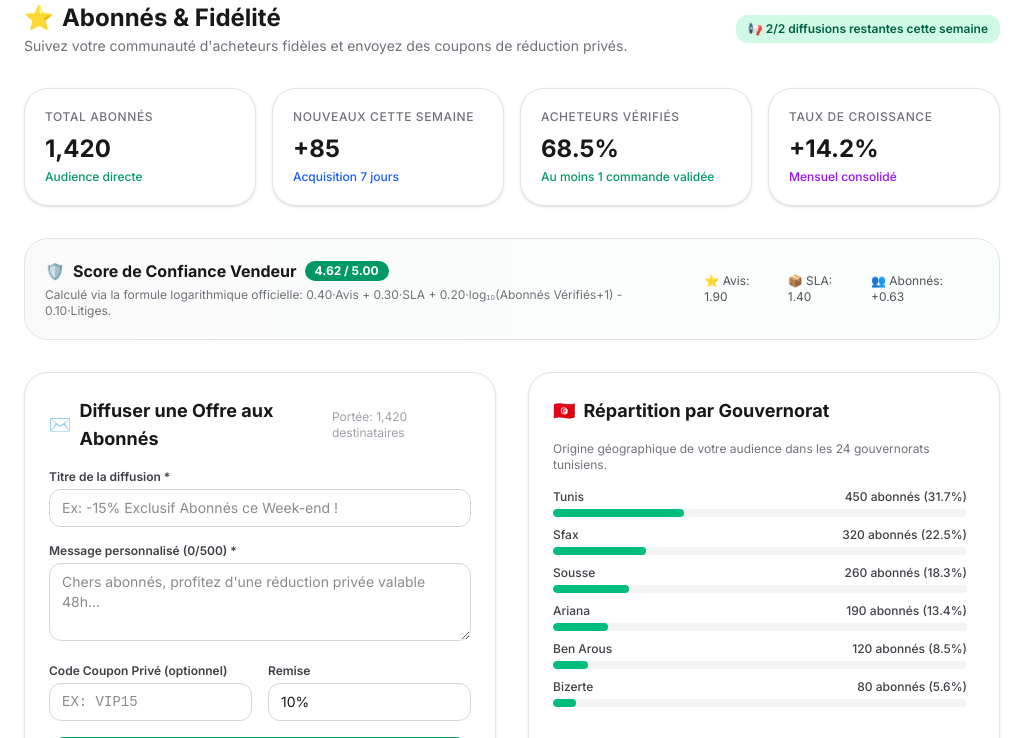
Test: Feature 20: Seller Loyalty Dashboard & Broadcasts (R5) › Tier 3: Cross-Component Interactions & State Sync › T3.1: successful broadcast decrements remaining quota and prepends entry to History table
This screenshot has width=1024, height=738.
Check: the text with test id "broadcast-quota-badge" shows "2/2 diffusions restantes", box [736,15,1000,43]
Type "Offre Flash Fin de Saison" into the field with test id "input-broadcast-title" at (260, 508), box [49,489,471,527]
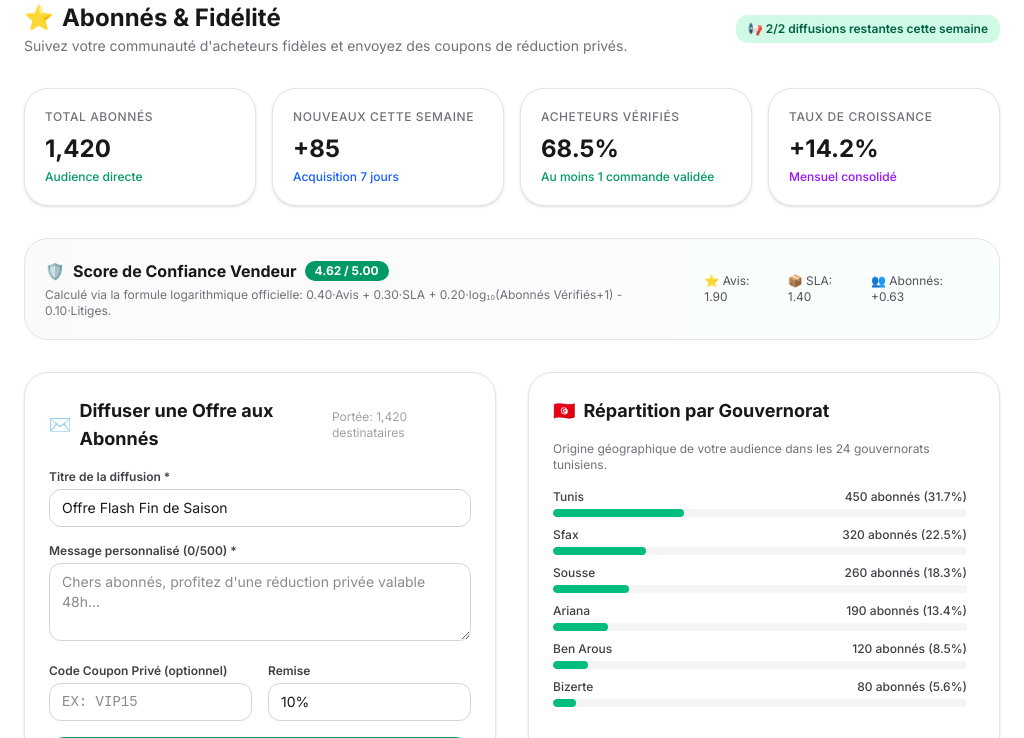
Replace the text in the text box with test id "input-broadcast-message" with "Profitez de remises immédiates." at (260, 602), box [49,563,471,641]
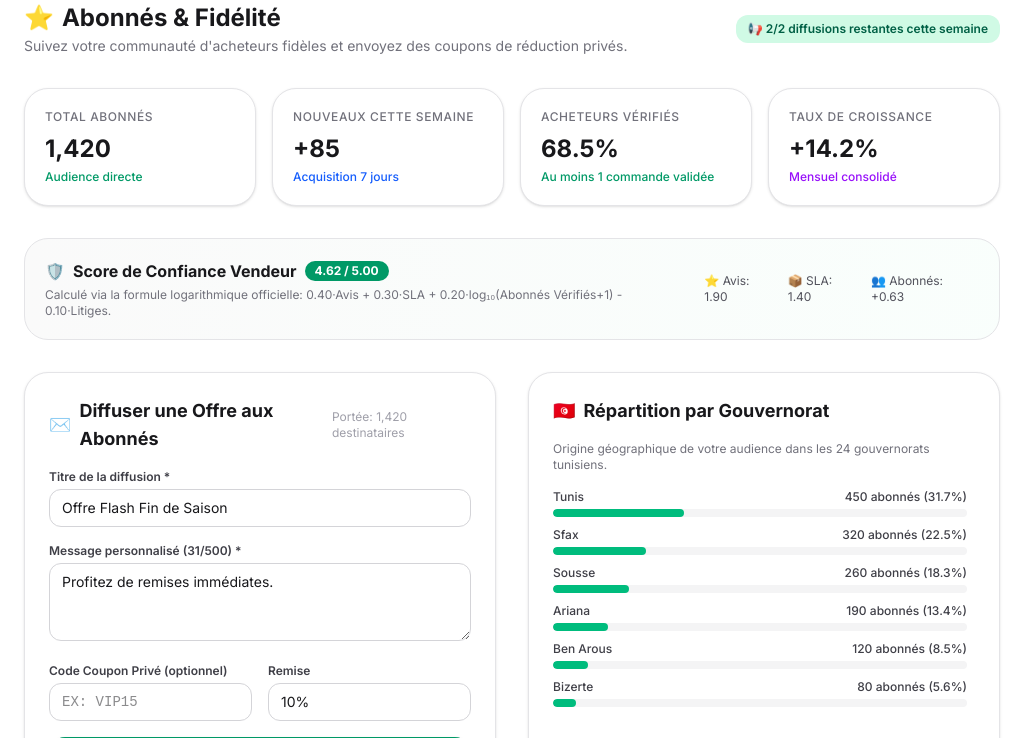
Type "SUMMER20" into the field with test id "input-coupon-code" at (150, 702), box [49,683,252,721]
(page scrolled)
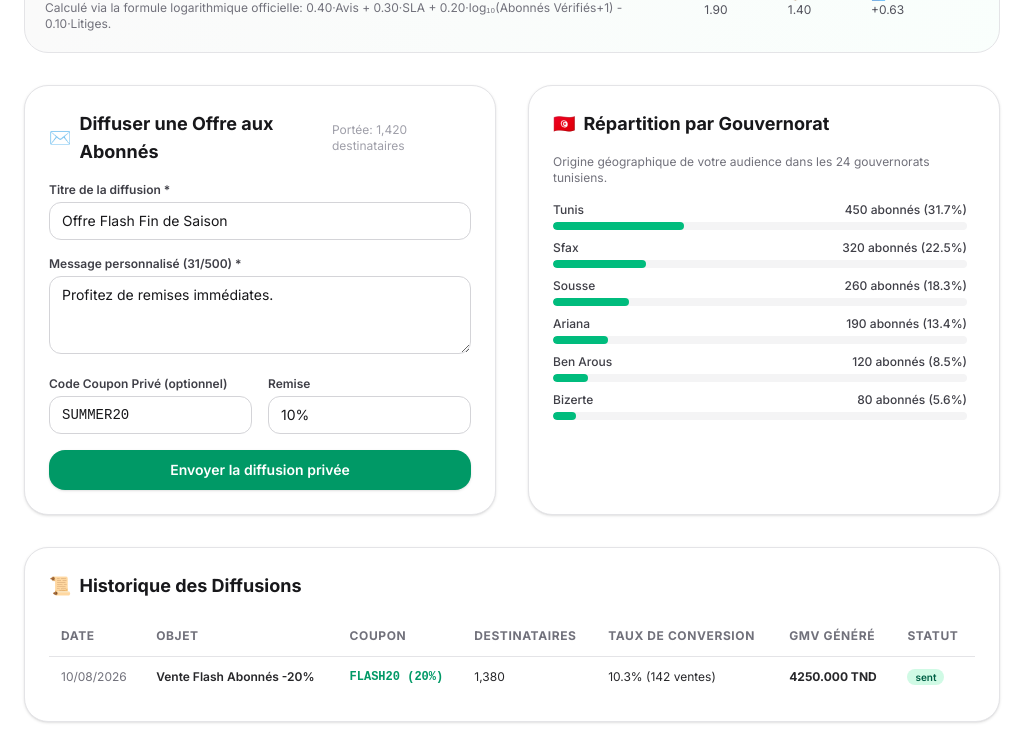
Click the button with test id "btn-submit-broadcast" at (260, 470), box [49,450,471,490]
(page scrolled)
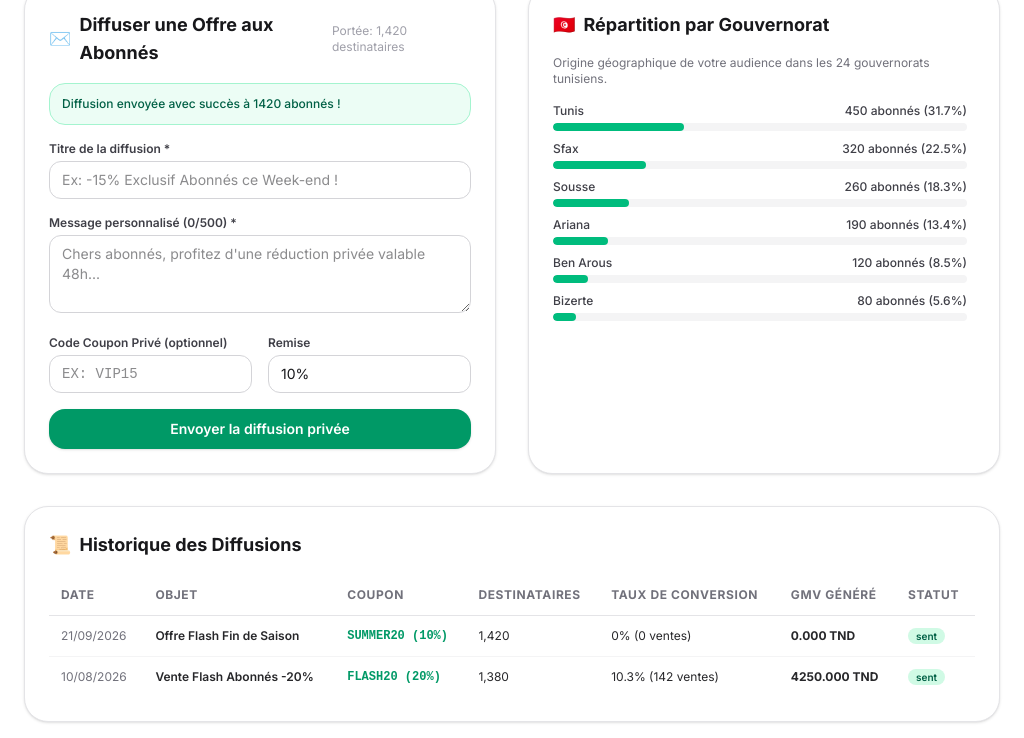
Check: the text "Offre Flash Fin de Saison" is shown, box [143,616,335,656]
Check: the text "SUMMER20 (10%)" is shown, box [335,616,466,656]
